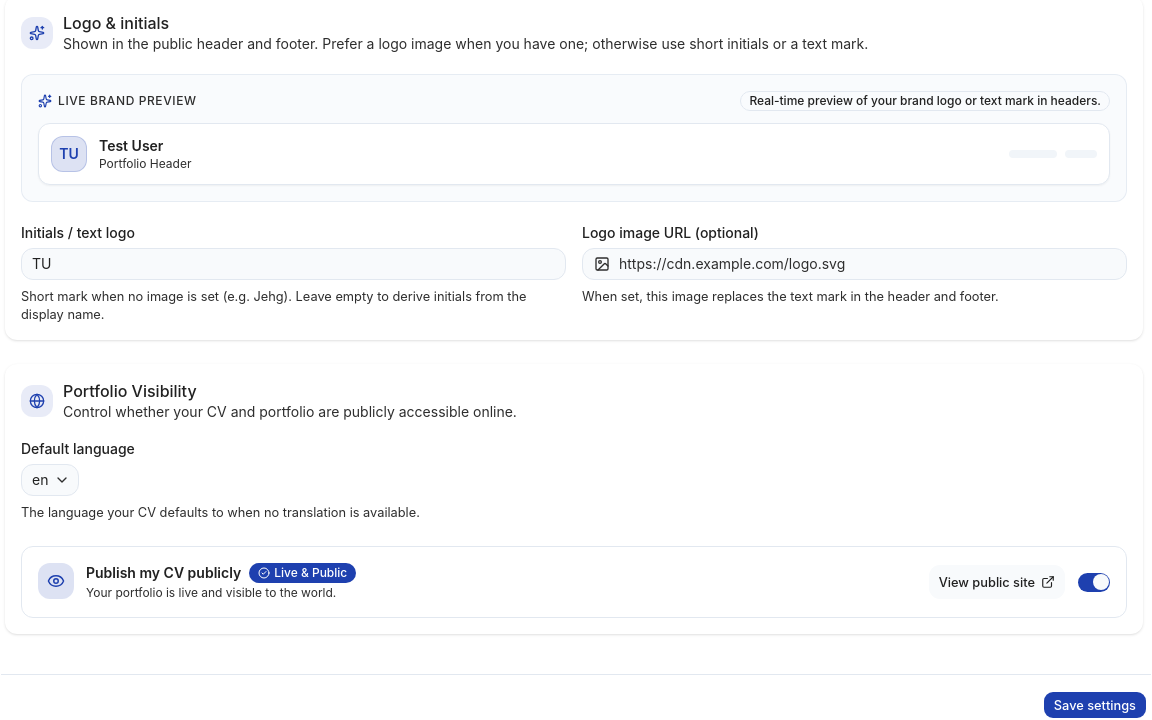
Test case: SettingsForm › handles submission error
(page scrolled)
Click the button "Save settings" at (1095, 705), box [1043,691,1147,719]
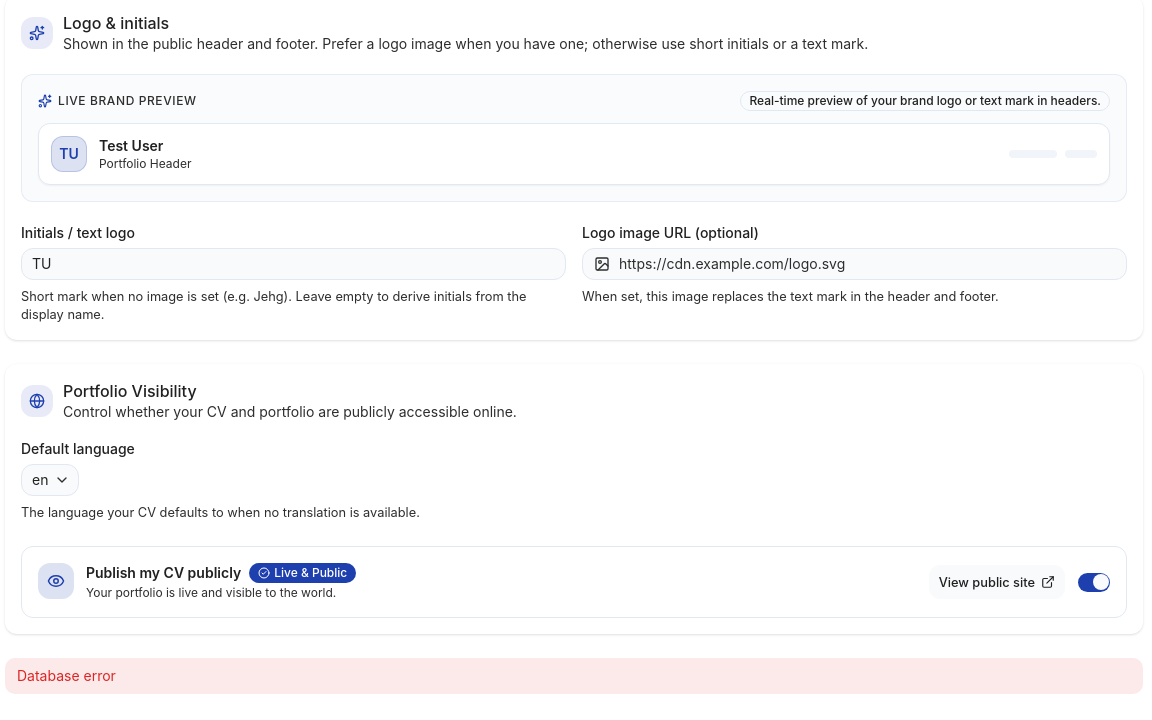
Expected: the text "Database error" is shown, [5,658,1143,694]
